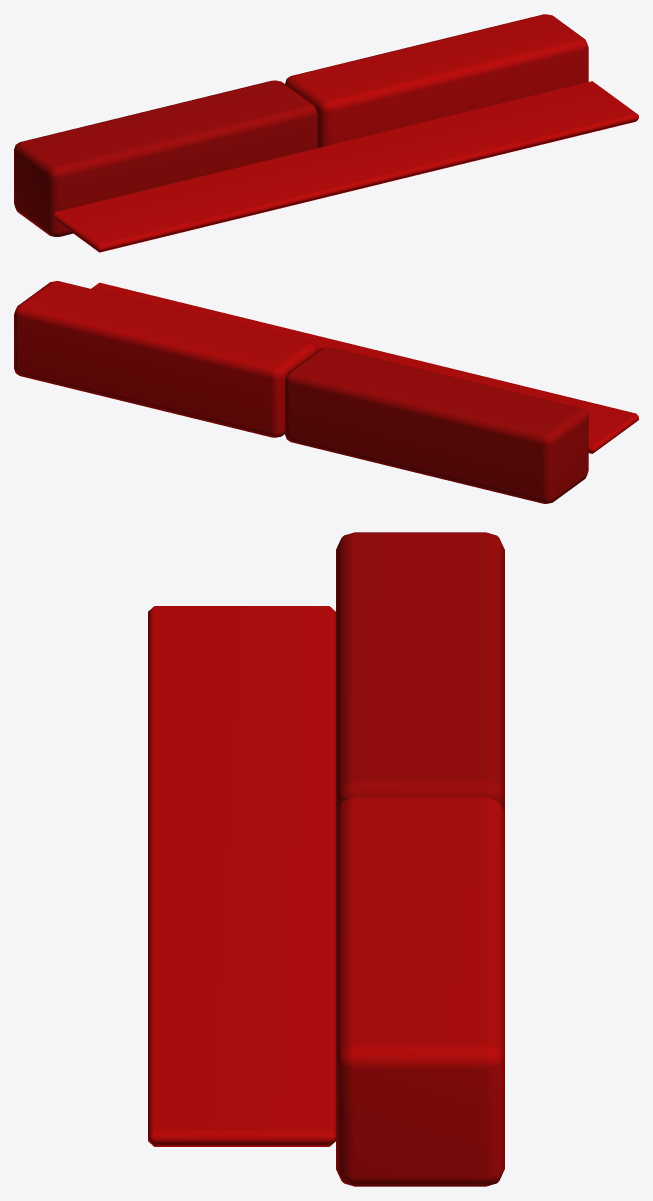
Rendered from curb.glb.
3 renders of one model, top to bottom at view 1: azimuth 30°, elevation 25°; view 2: azimuth 150°, elevation 25°; view 3: azimuth 270°, elevation 25°, orthographic. The views are drawn at different scales.
Parts seen in each view (by area): view 1: curb; view 2: curb; view 3: curb.
Part boxes in pixels (x1,y1,x2,y2): curb: [14, 14, 638, 252]; curb: [14, 281, 638, 503]; curb: [148, 532, 504, 1186].
Size of the model in its own units: 2 by 0.25 by 0.57.
